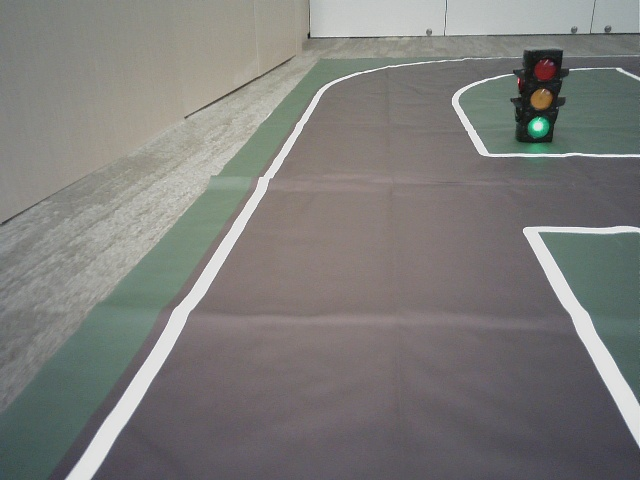green: (523, 53, 560, 142)
